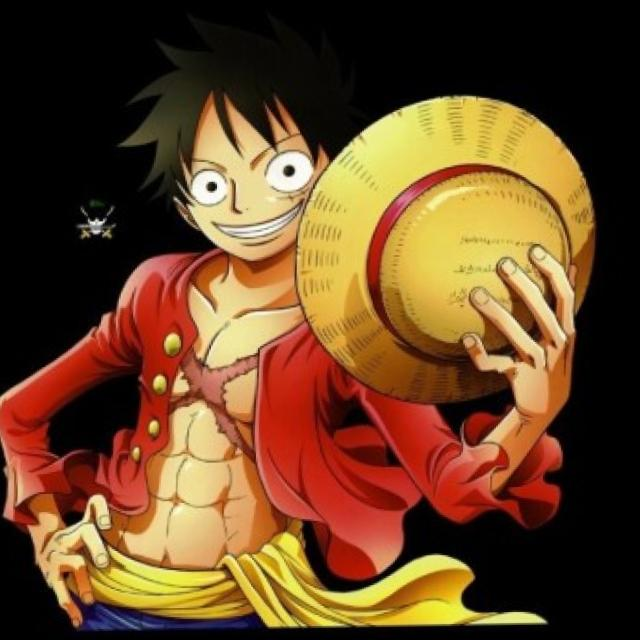Luffy: (102, 31, 374, 277)
